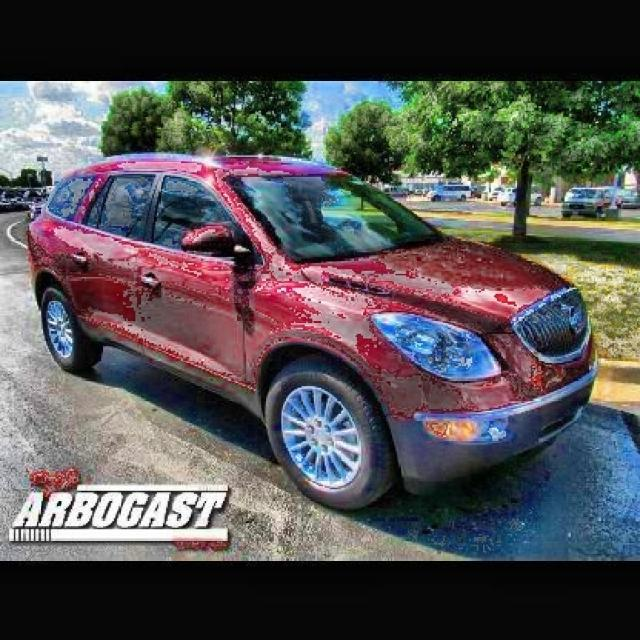maroon: (27, 151, 601, 466)
